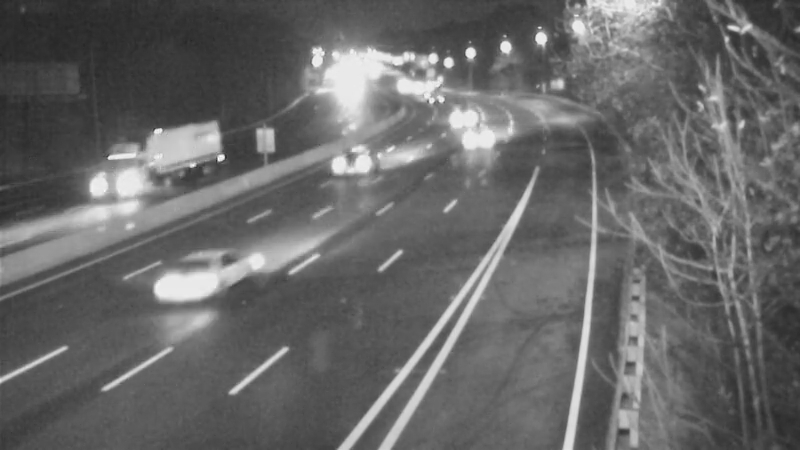vehicle: (322, 119, 402, 199), (147, 247, 227, 327), (135, 137, 215, 217), (434, 94, 484, 144), (458, 113, 508, 163)
